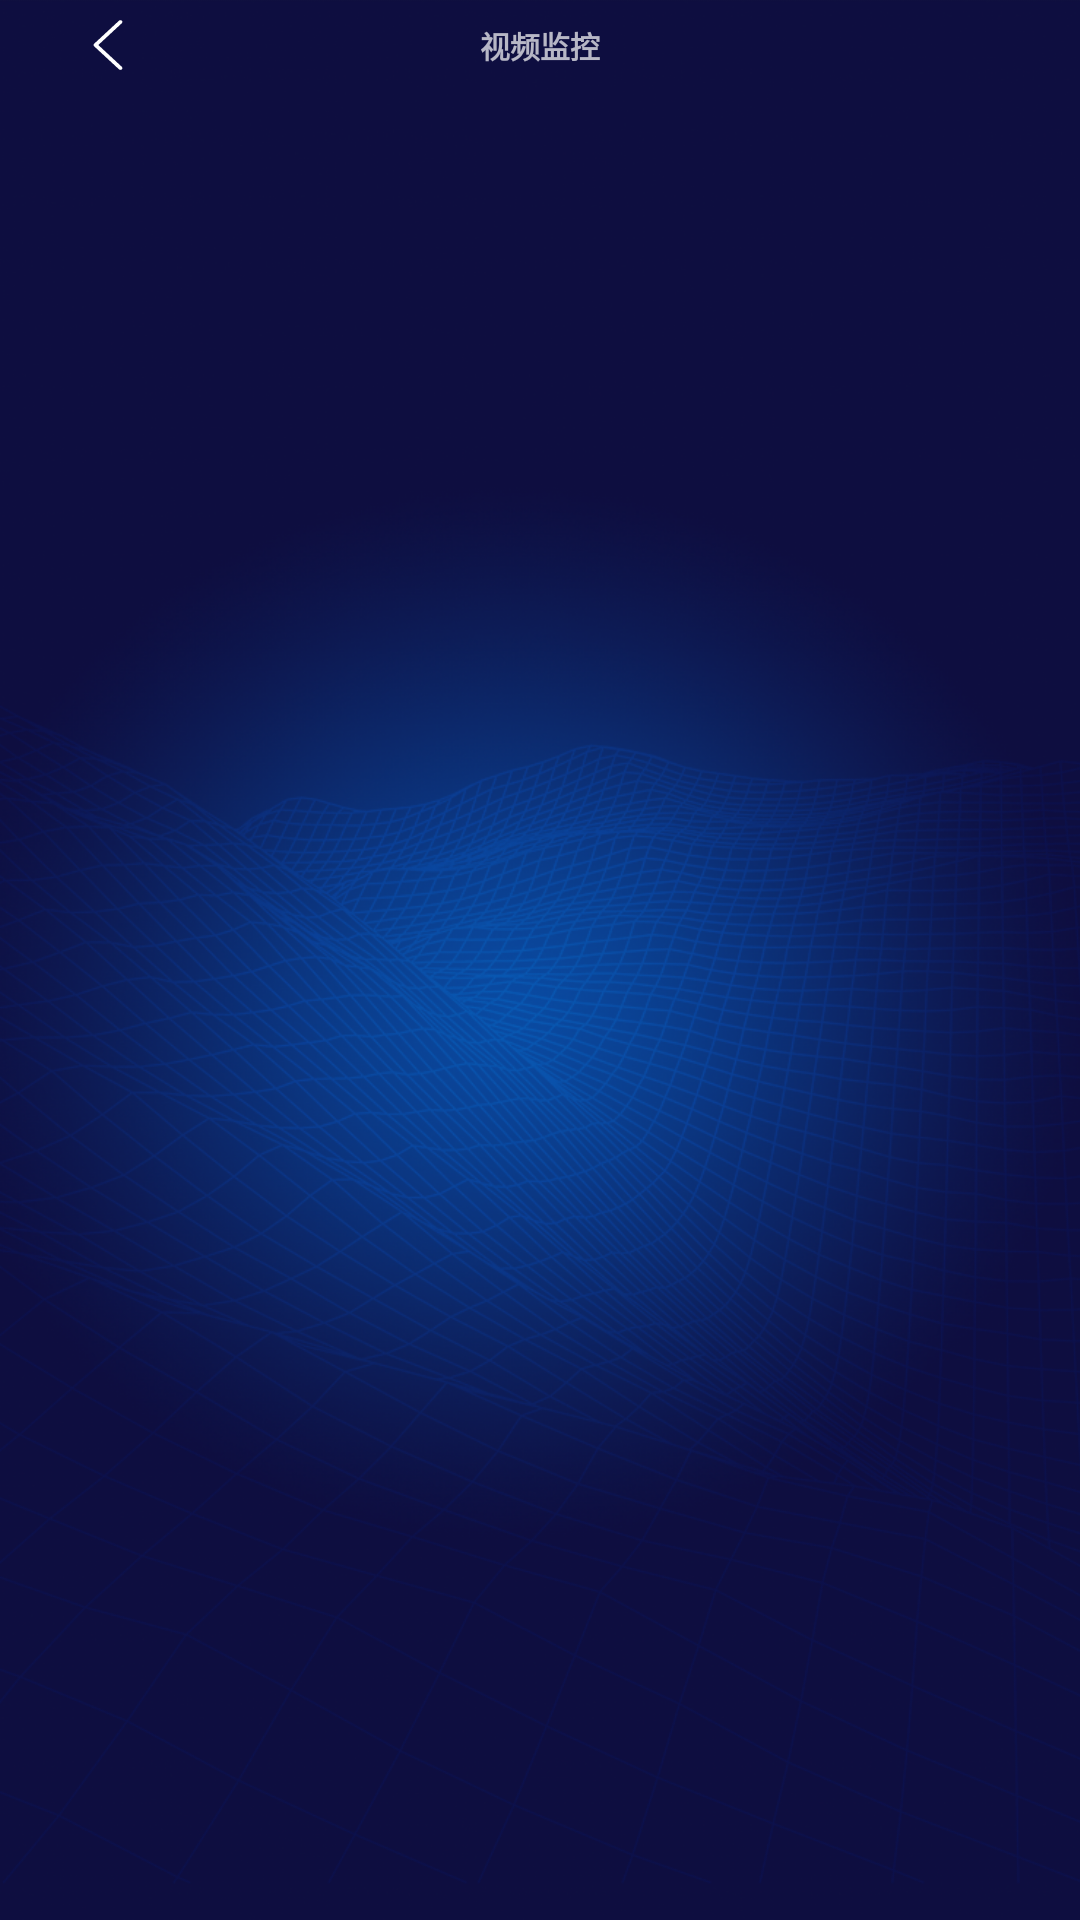

Locate icon controls on the screen. Image size 1080px×1920px, boxes as (x1, y1, x2, y2).
back: (93, 20, 123, 70)
